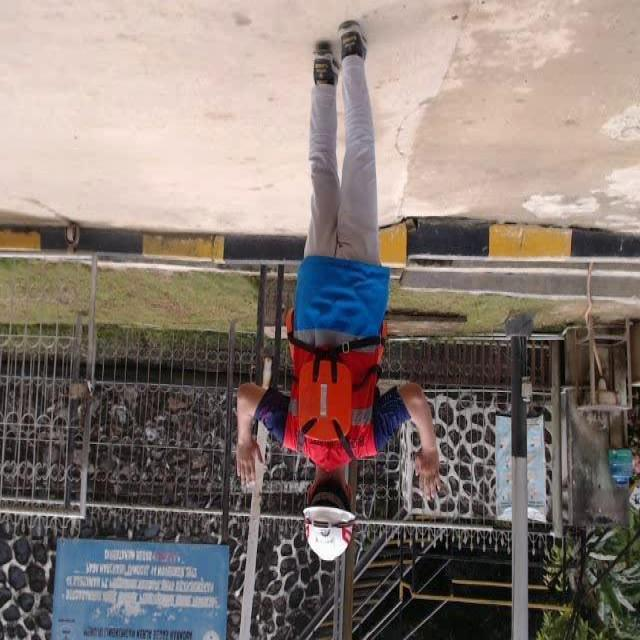helmet: (290, 492, 360, 562)
jacket: (282, 326, 400, 478)
